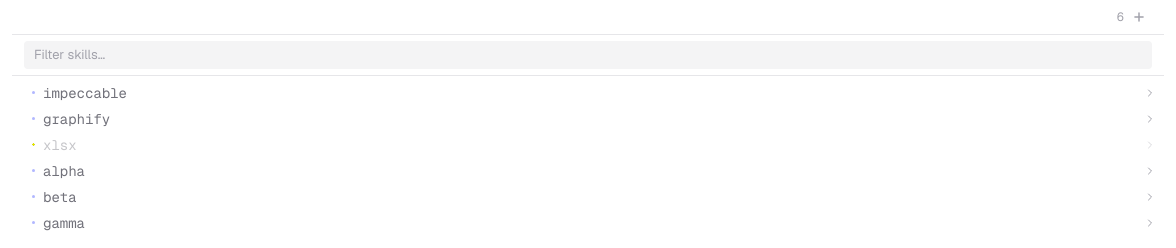
SkillsListPanel › shows no-match message when filter has no results
Type "zzz" into the field with placeholder "Filter skills…" at (588, 55), box x1=24 y1=41 x2=1152 y2=68
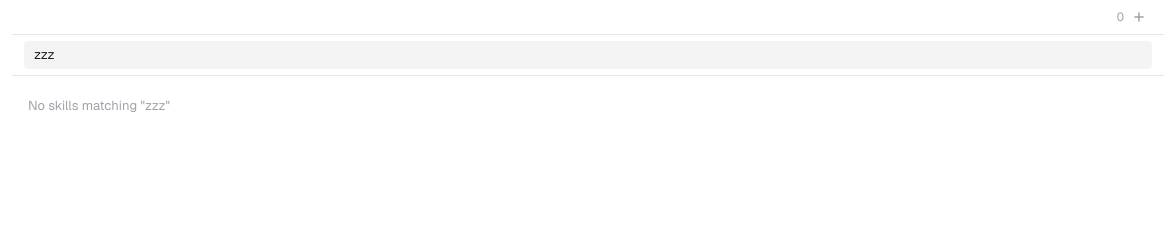
Check: the text "No skills matching \"zzz\"" is shown, box x1=28 y1=96 x2=170 y2=114
